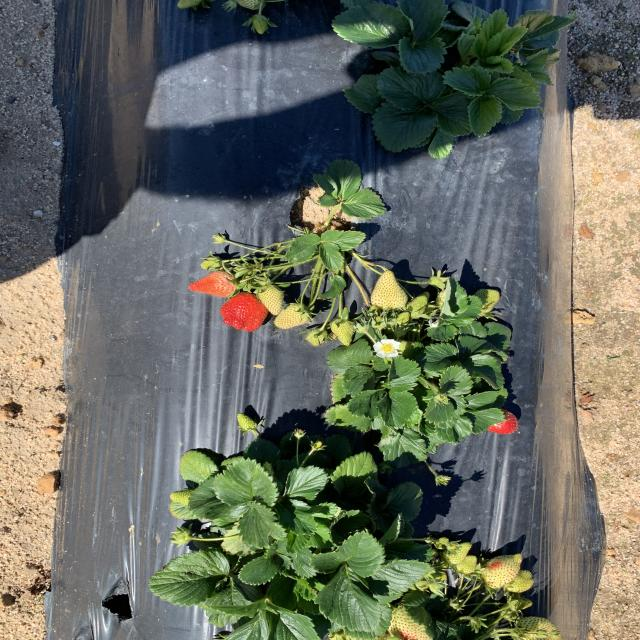unripe: (219, 290, 268, 332), (187, 271, 237, 296), (485, 409, 520, 435)
